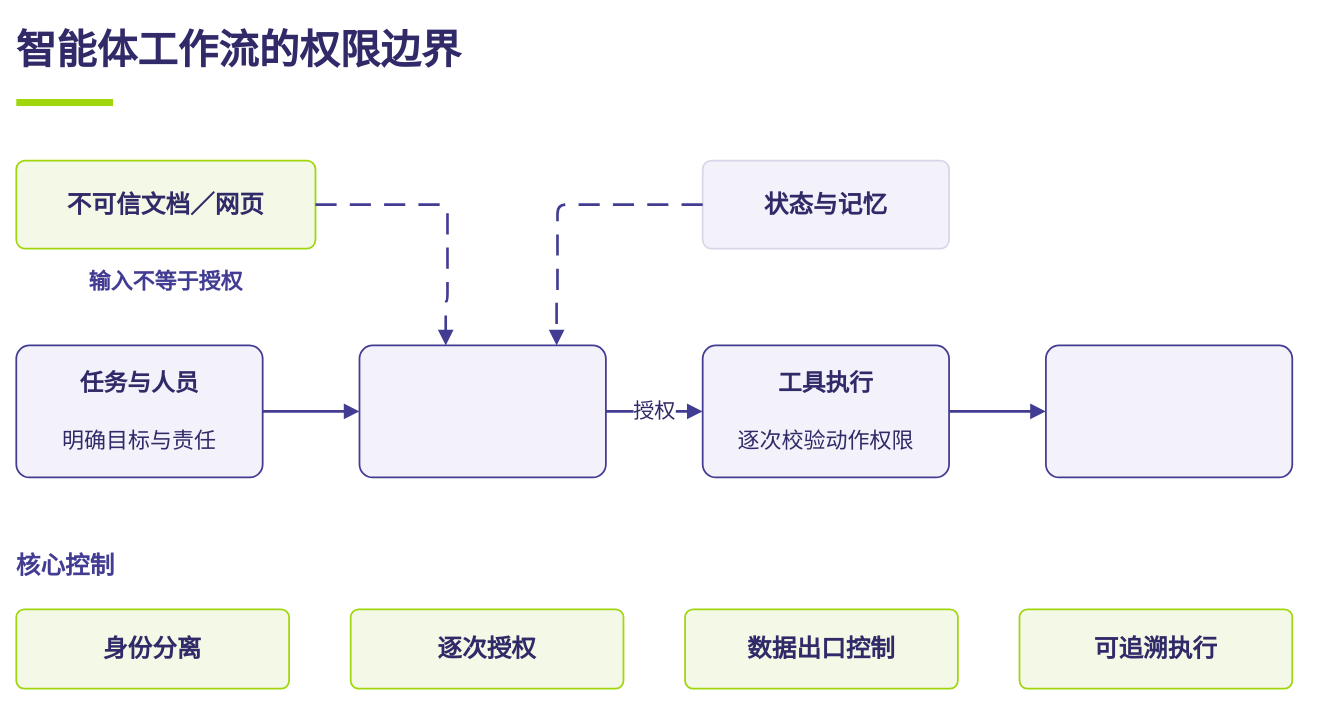
Image size: 1333x704. Some labels were removed from this diagram. The shapes that lost their labels are listed below. From the top down, each one's centre as x and y in pixels, then its label:
At pixel 482 411: "模型与编排 分解、调度与反馈".
At pixel 1169 411: "业务系统 数据、身份与服务".
